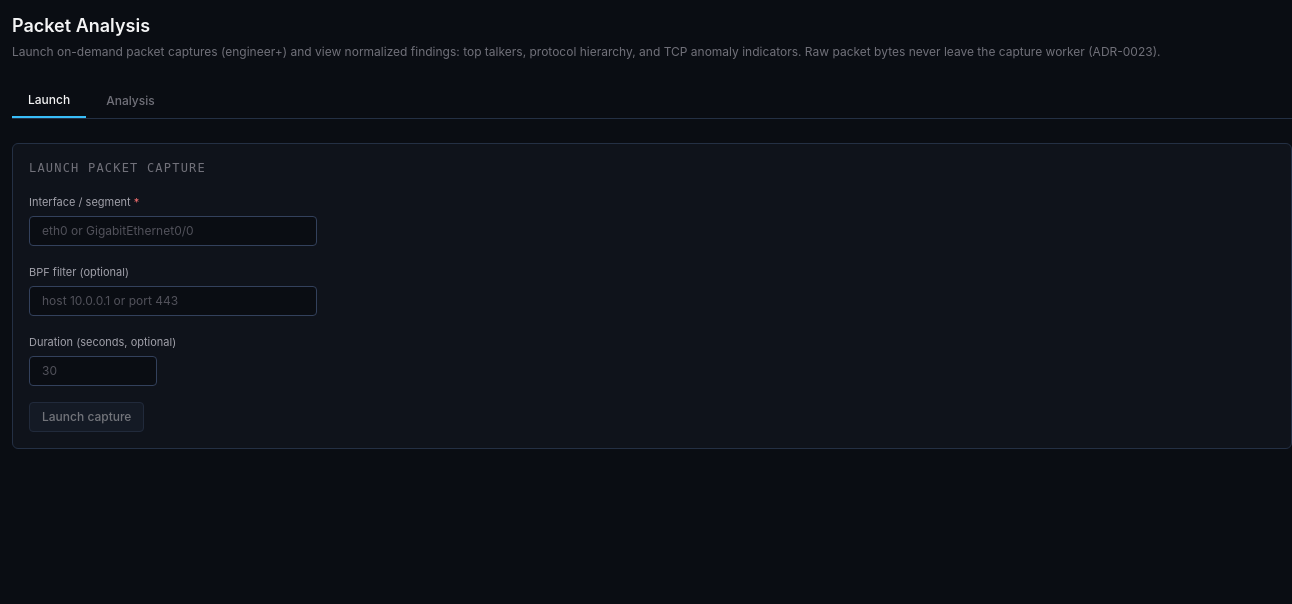
Test: PacketPage — capture launch › shows the capture id after a successful launch
Type "eth0" into the field with test id "capture-interface" at (173, 231), box [29,216,317,246]
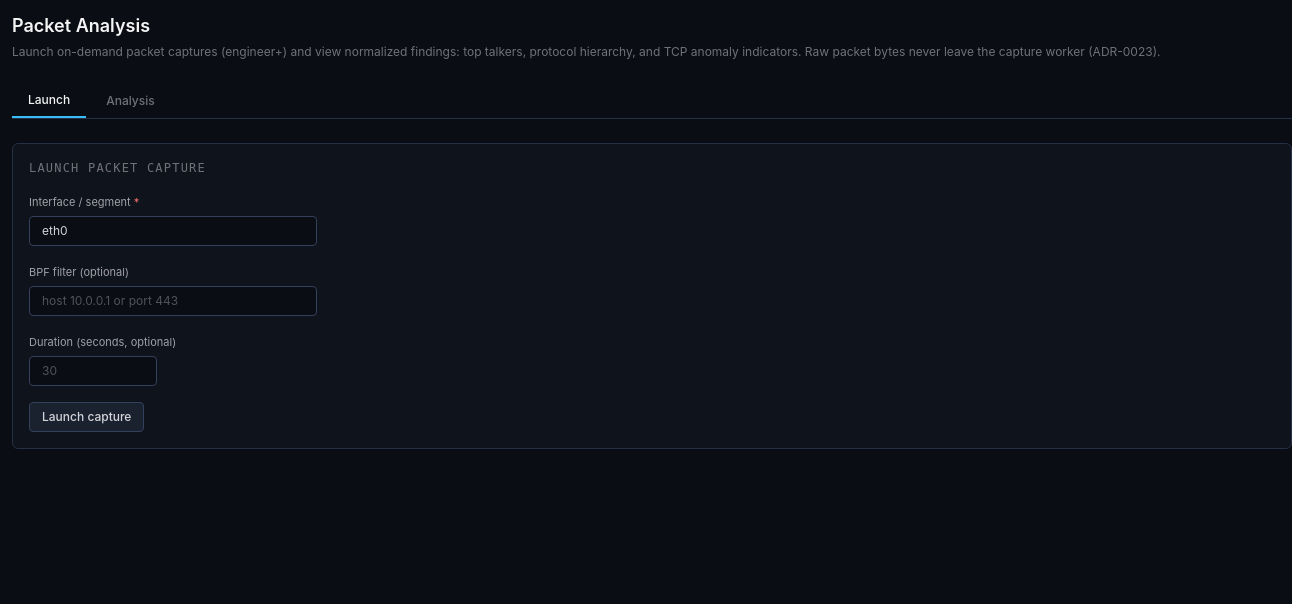
Click the button with test id "capture-launch-btn" at (87, 417), box [29,402,144,432]
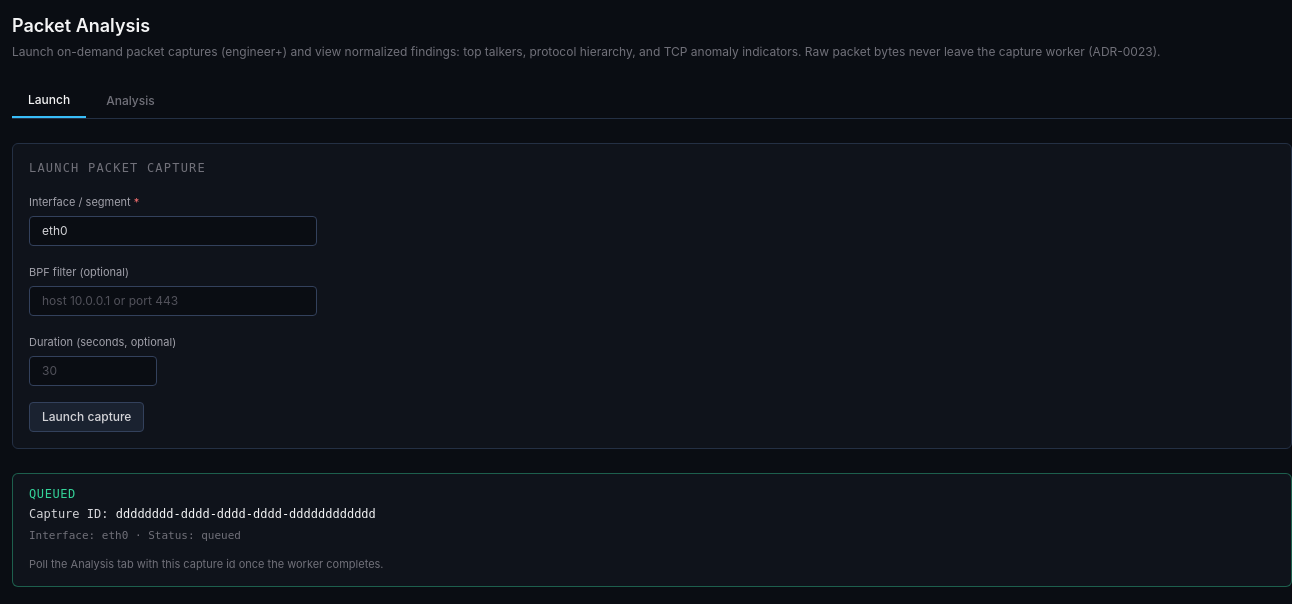
Expected: the element with test id "capture-launch-result" is shown, [12,473,1291,587]
Expected: the text with test id "capture-id" reads "dddddddd-dddd-dddd-dddd-dddddddddddd", [116,507,376,521]
